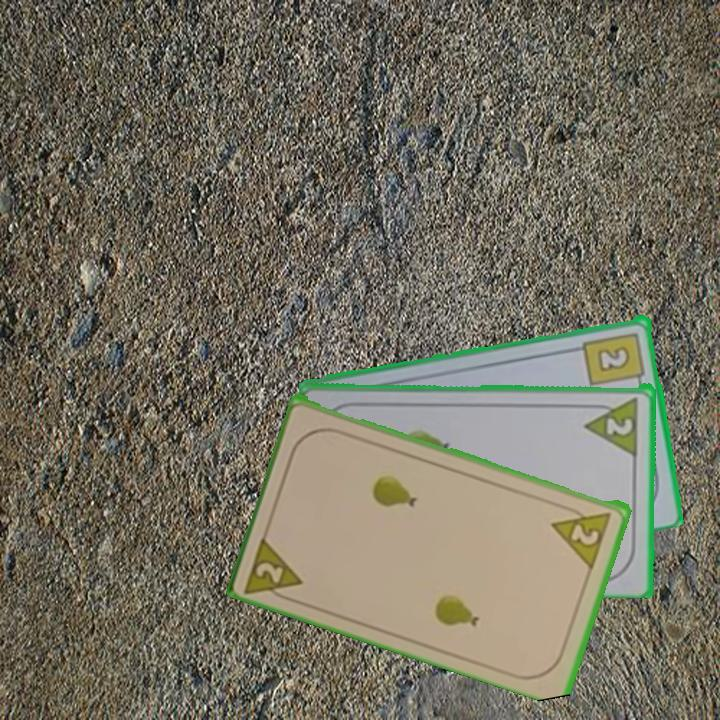2b: (580, 328, 648, 389)
2p: (241, 530, 307, 606), (549, 502, 615, 569), (603, 412, 636, 438)
